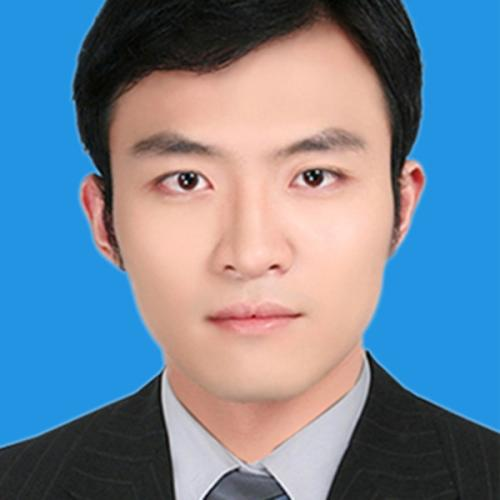unmask: (115, 88, 404, 381)
